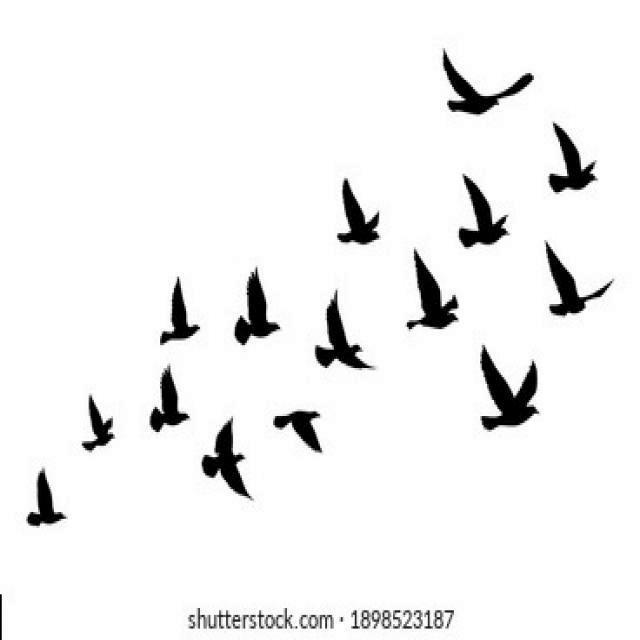bird: (436, 44, 540, 124), (536, 236, 610, 340), (445, 164, 525, 260), (466, 344, 549, 434), (399, 247, 462, 337), (316, 286, 378, 376), (196, 418, 255, 509), (538, 120, 605, 200), (146, 355, 202, 443), (225, 270, 289, 344), (328, 180, 388, 258), (11, 466, 72, 533), (152, 276, 207, 350), (265, 402, 329, 462), (80, 393, 120, 457)
